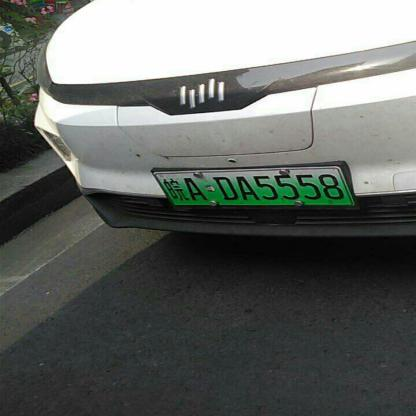lp: (156, 168, 355, 209)
